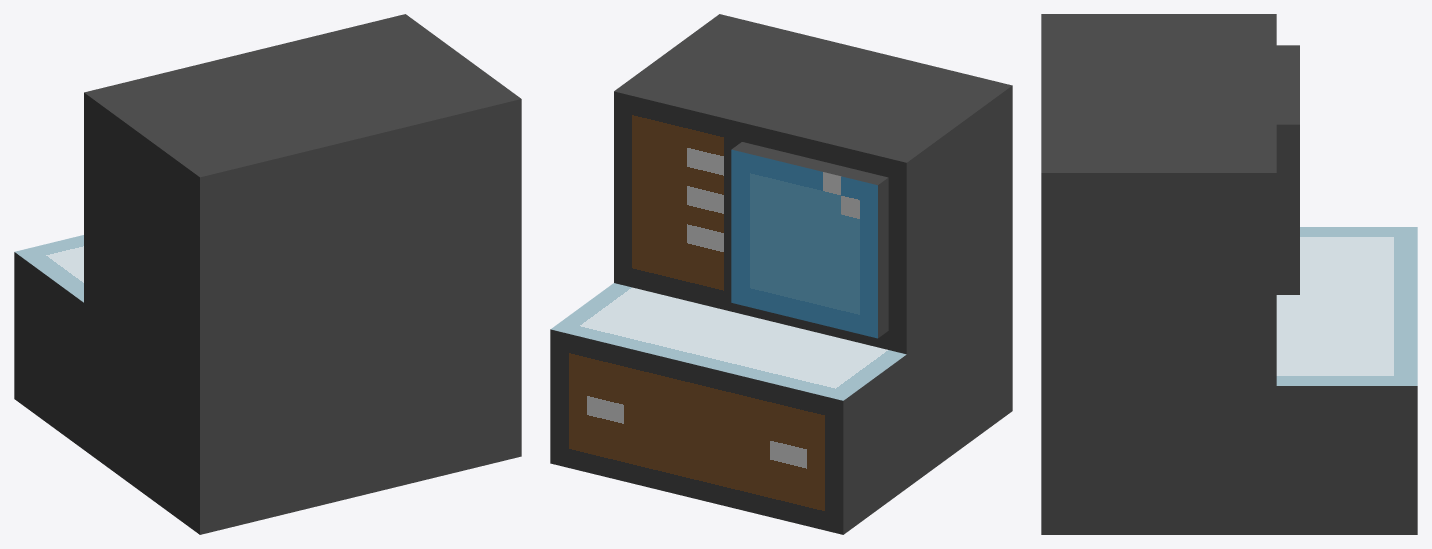
File: dresser.gltf
The picture shows the model from 3 angles, left to right: view 1: azimuth 30°, elevation 25°; view 2: azimuth 150°, elevation 25°; view 3: azimuth 270°, elevation 25°; orthographic projection. The views are drawn at different scales.
Parts seen in each view (by area): view 1: cube (×2); view 2: cube (×3); view 3: cube (×3).
Boxes of the visible parts, left/top/right/bottom form: cube (×2): left=14, top=14, right=521, bottom=534; cube (×3): left=550, top=14, right=1012, bottom=534; cube (×3): left=1041, top=14, right=1417, bottom=534.
Size of the model in its own units: 1 by 1.06 by 1.
1 material, 1 textured.
